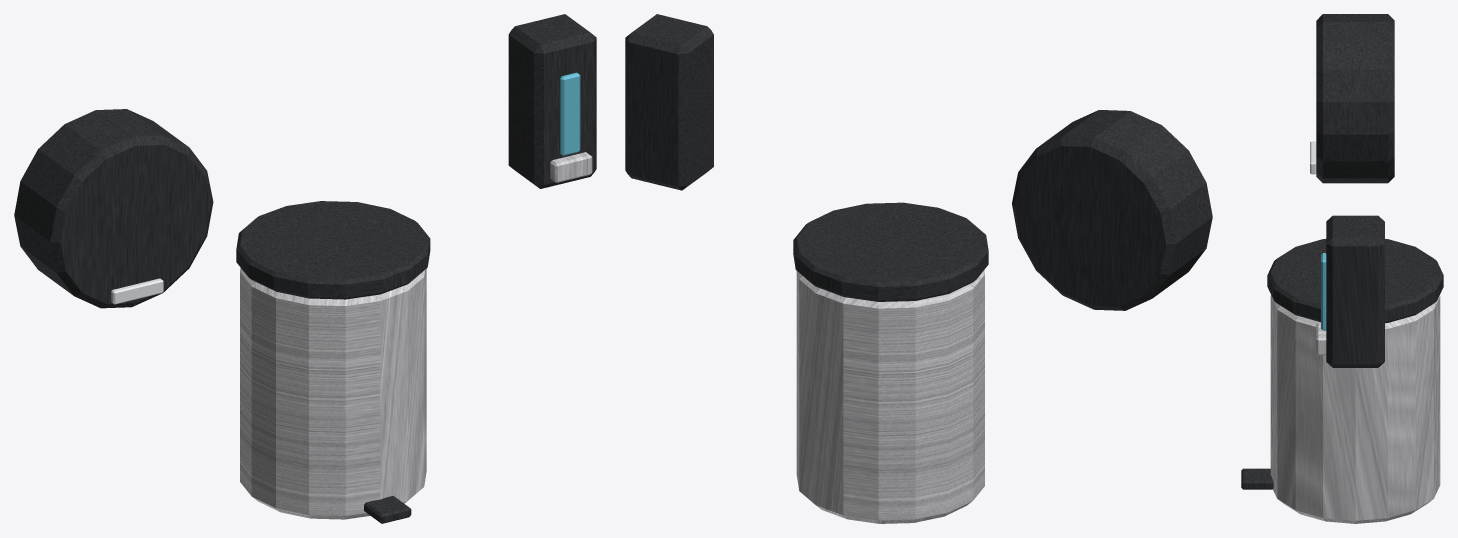
File: 11_Dispensadores_Bano.obj
3 views of the same model, side by side, from view 1: azimuth 30°, elevation 25°; view 2: azimuth 150°, elevation 25°; view 3: azimuth 270°, elevation 25° (orthographic). The views are drawn at different scales.
Visible parts, largest first — view 1: 11_Dispensadores_Bano; view 2: 11_Dispensadores_Bano; view 3: 11_Dispensadores_Bano.
Boxes of the visible parts, x1,y1,x2,y2 form: 11_Dispensadores_Bano: [14, 14, 596, 523]; 11_Dispensadores_Bano: [625, 14, 1212, 523]; 11_Dispensadores_Bano: [1241, 14, 1443, 523].
Size of the model in its own units: 0.88 by 0.63 by 0.31.
